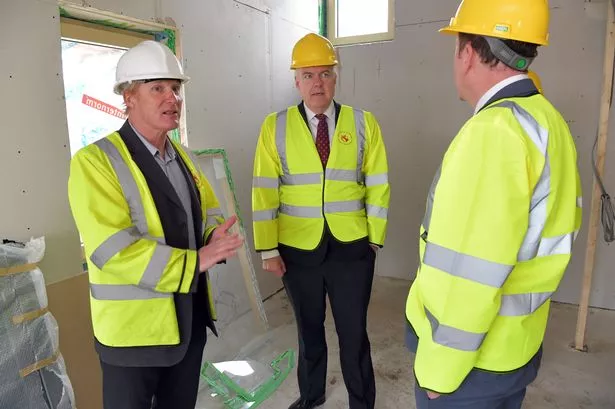Helmet: (425, 1, 567, 117), (110, 36, 191, 150), (287, 29, 348, 120)
Reflective vest: (403, 94, 586, 396), (64, 125, 221, 351), (249, 98, 393, 254)
